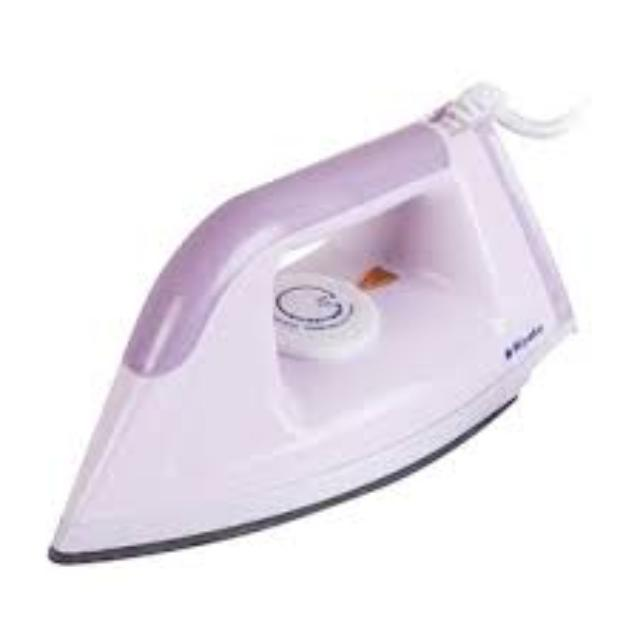Clothes-Iron: (106, 108, 582, 588)
